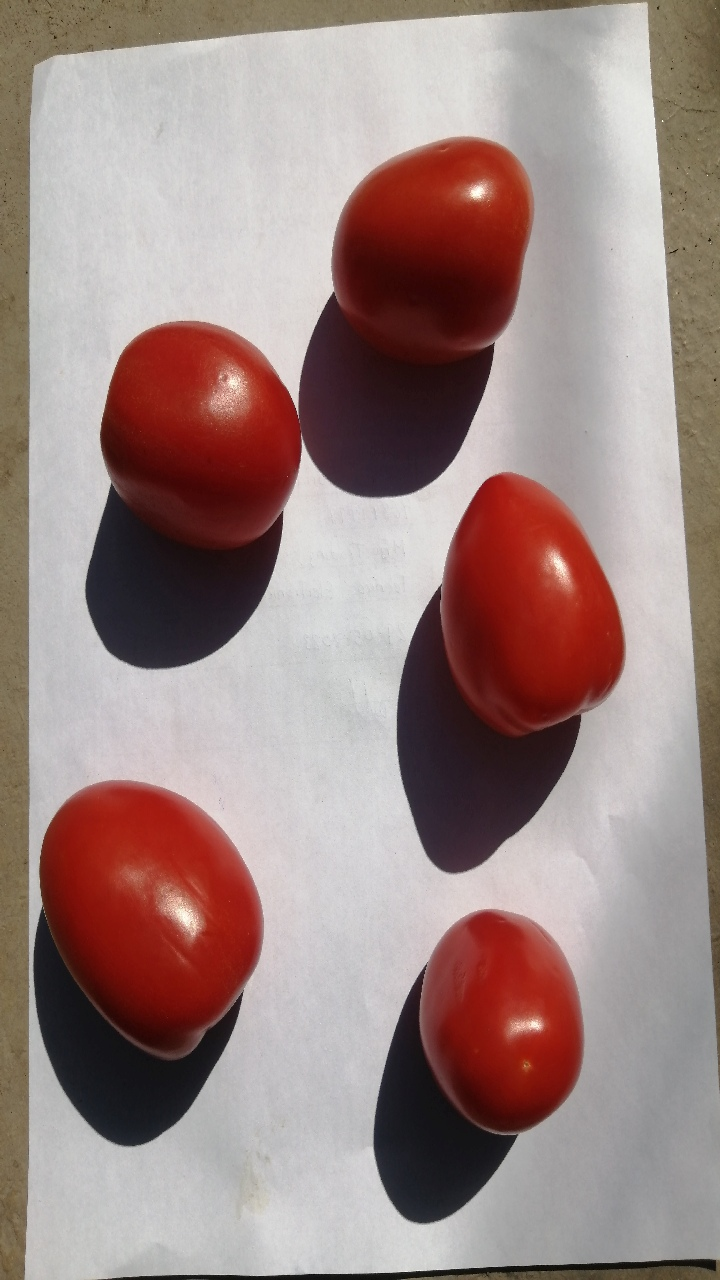tomateRojo: (29, 762, 274, 1079), (418, 446, 644, 755), (71, 292, 331, 555), (308, 122, 546, 369), (406, 886, 606, 1145)
